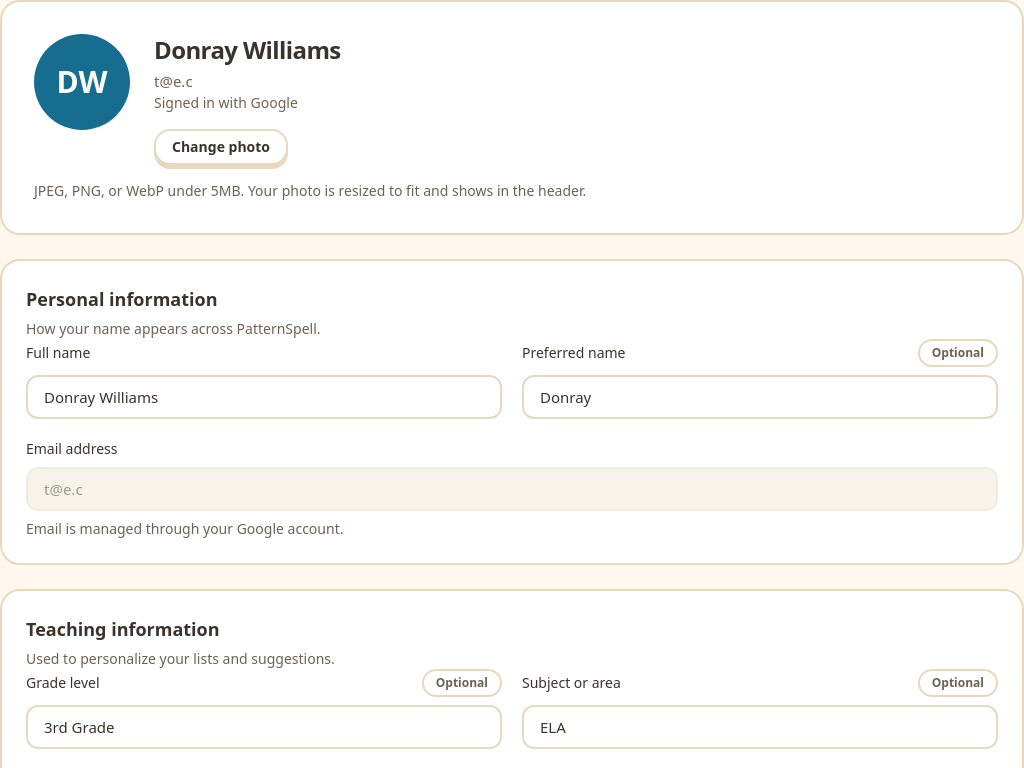
ProfileForm › shows a toast when auto-save fails and keeps the input
Replace the text in the field labelled "Full name" with "Donray W." at coordinates (264, 396), box [26,374,502,418]
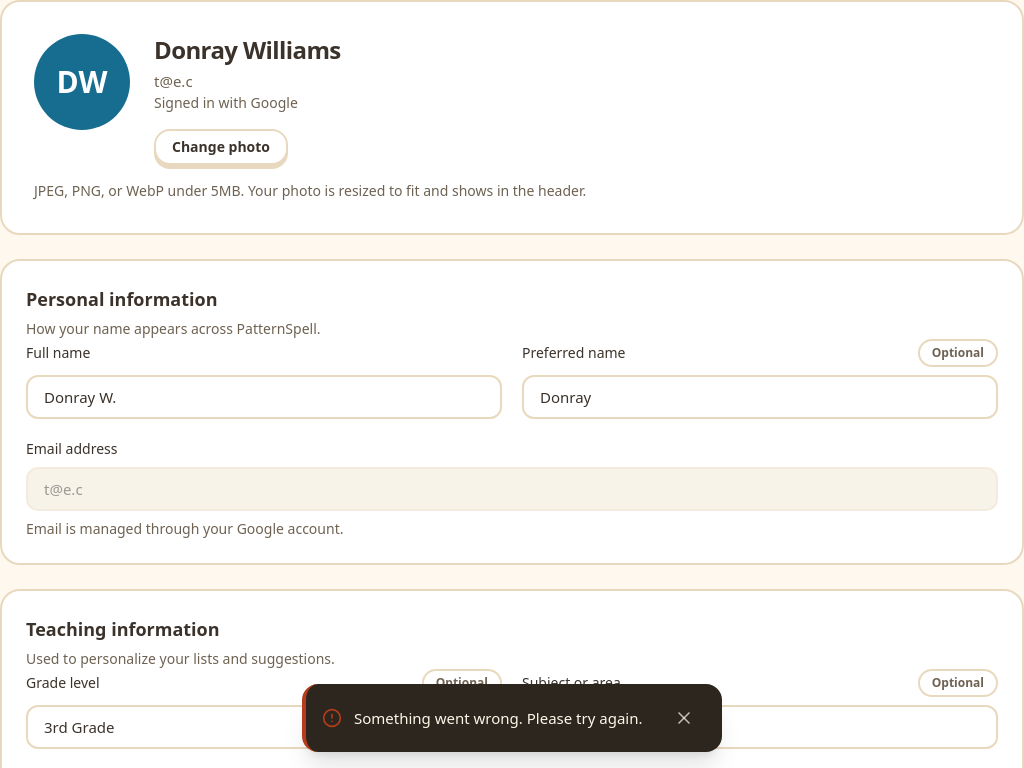
Result: the message reads "Something went wrong. Please try again." at [354,708,642,728]
